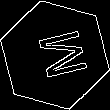M_W: (25, 27, 85, 83)
